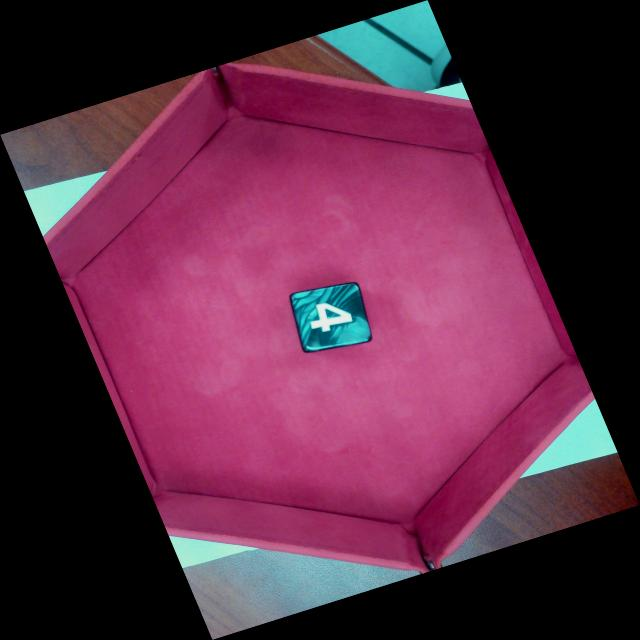dice: (297, 286, 373, 350)
